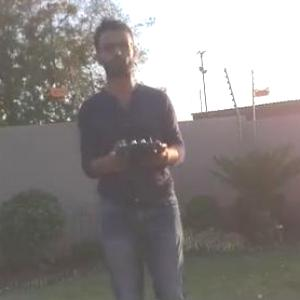follow: (73, 14, 192, 299)
